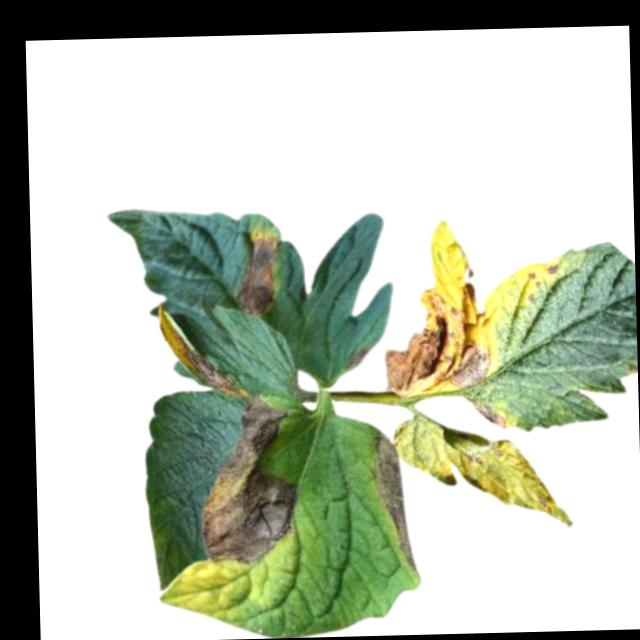Early_blight: (198, 393, 303, 566), (382, 276, 494, 395), (153, 302, 247, 396), (373, 432, 422, 569), (236, 224, 285, 314), (471, 398, 511, 432), (348, 344, 374, 368), (546, 259, 563, 280)
